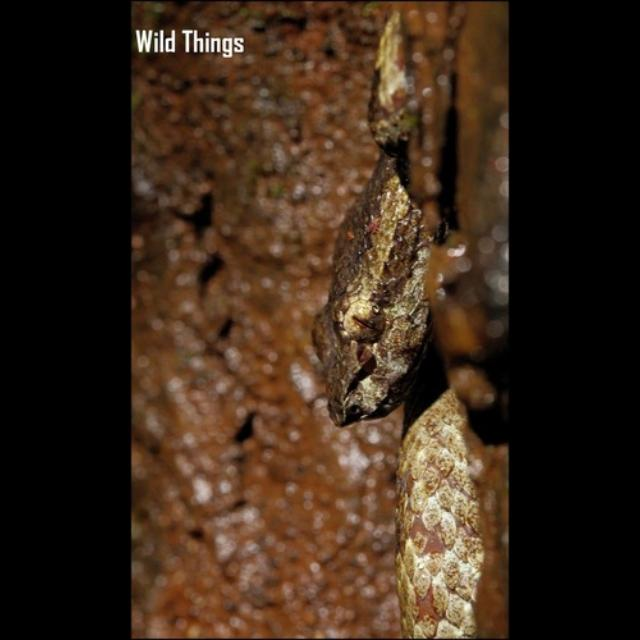snake: (302, 11, 510, 640)
